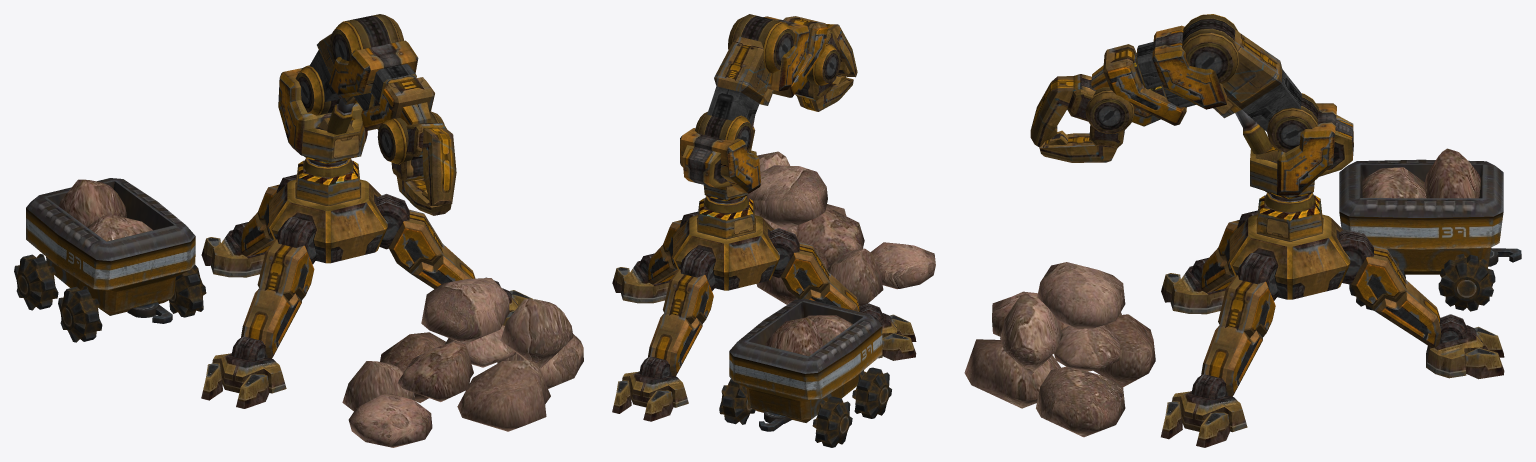
The model's file is marsaracrane_00.fbx.
3 views of the same model, side by side, from view 1: azimuth 30°, elevation 25°; view 2: azimuth 150°, elevation 25°; view 3: azimuth 270°, elevation 25° (orthographic). The views are drawn at different scales.
Visible parts, largest first — view 1: Geoset_1, Geoset_3, Geoset_2, Geoset_0; view 2: Geoset_1, Geoset_2, Geoset_3, Geoset_0; view 3: Geoset_1, Geoset_3, Geoset_2, Geoset_0.
Boxes of the visible parts, x1,y1,x2,y2 form: Geoset_1: (201,14,532,408); Geoset_3: (59,179,583,447); Geoset_2: (14,178,206,342); Geoset_0: (421,286,509,342); Geoset_1: (612,14,916,421); Geoset_2: (719,299,891,447); Geoset_3: (747,151,935,356); Geoset_0: (748,168,827,227); Geoset_1: (1030,14,1504,447); Geoset_3: (964,148,1480,437); Geoset_2: (1339,159,1521,311); Geoset_0: (1049,283,1125,328).
Bounding box in the file's own units: 6.24 × 5.56 × 7.66.
Materials: 3 (3 with a texture image).
